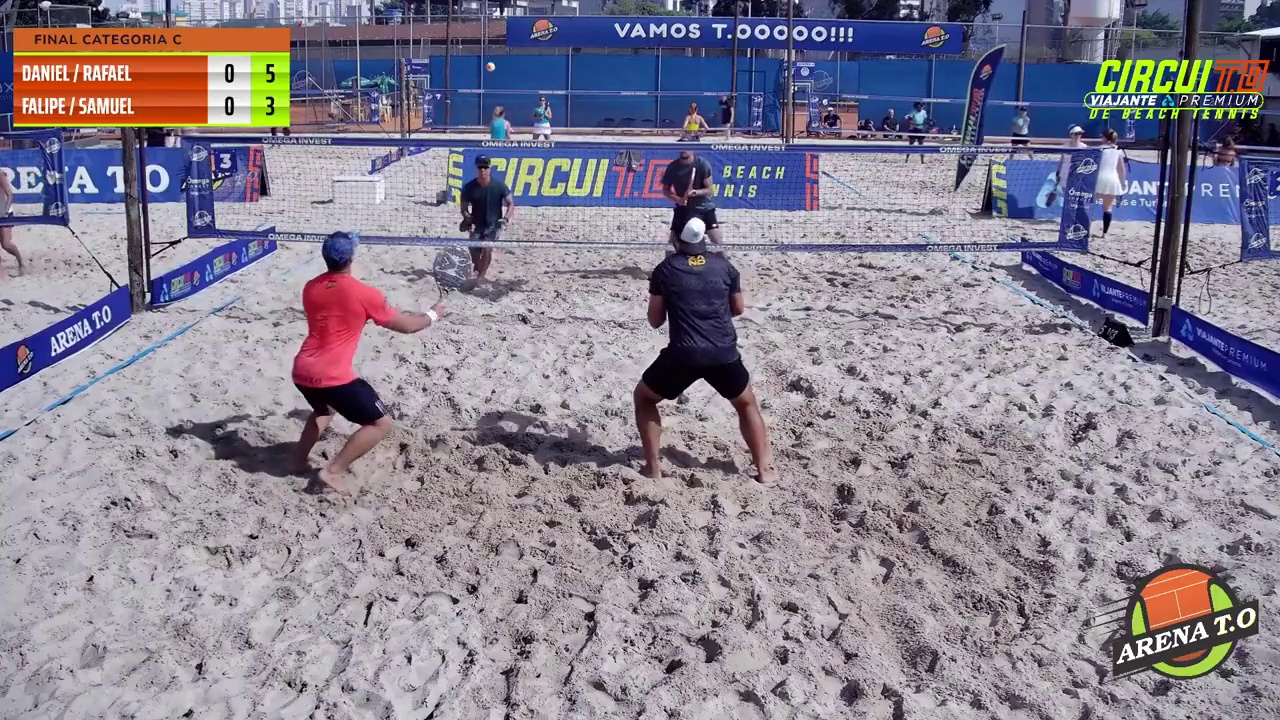court_line: (383, 0, 573, 558), (389, 0, 574, 394), (536, 0, 673, 528)
net: (139, 99, 800, 283)
